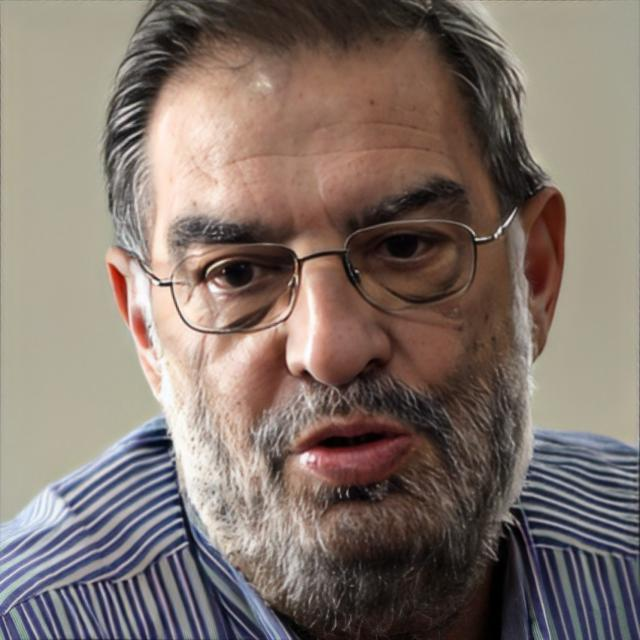anger: (150, 48, 514, 598)
